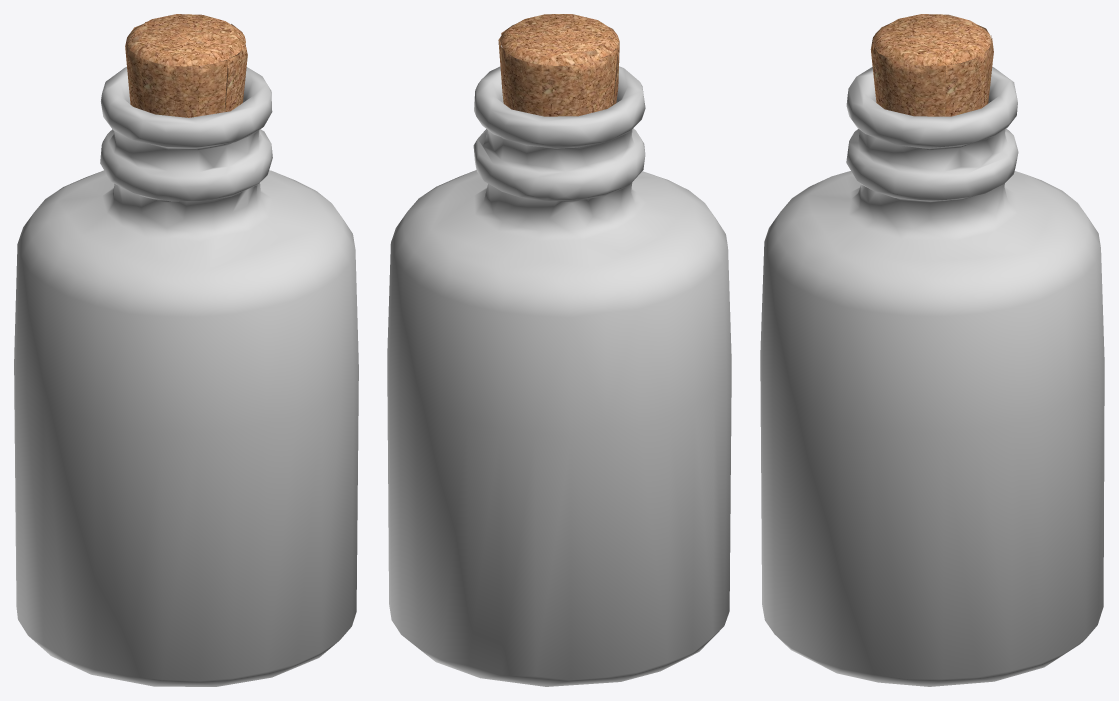
The model's file is bottle.glb.
3 views of the same model, side by side, from view 1: azimuth 30°, elevation 25°; view 2: azimuth 150°, elevation 25°; view 3: azimuth 270°, elevation 25° (orthographic).
Visible parts, largest first — view 1: Bottle; view 2: Bottle; view 3: Bottle.
Boxes of the visible parts, x1,y1,x2,y2 form: Bottle: [14, 14, 358, 686]; Bottle: [387, 14, 731, 686]; Bottle: [760, 14, 1104, 686].
Bounding box in the file's own units: 0.0703 × 0.132 × 0.0704.
3 materials, 2 textured.
